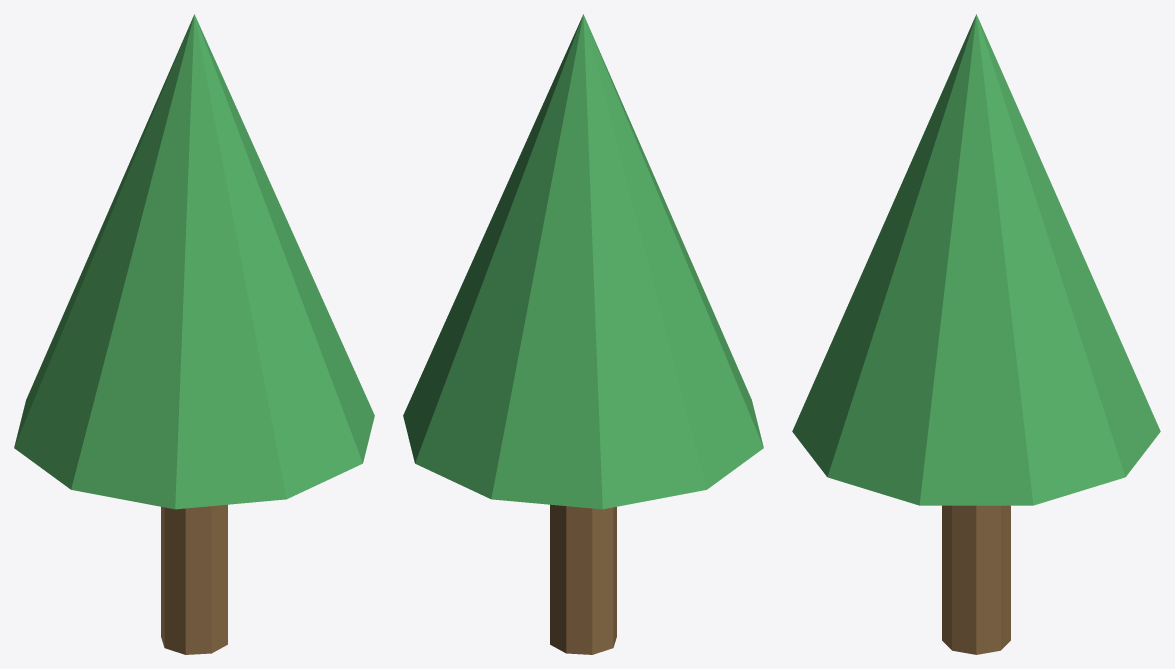
File: tree.glb
3 views of the same model, side by side, from view 1: azimuth 30°, elevation 25°; view 2: azimuth 150°, elevation 25°; view 3: azimuth 270°, elevation 25° (orthographic).
Parts seen in each view (by area): view 1: Cone, Cylinder; view 2: Cone, Cylinder; view 3: Cone, Cylinder.
Boxes of the visible parts, x1,y1,x2,y2 form: Cone: (14, 14, 374, 509); Cylinder: (161, 504, 227, 654); Cone: (403, 14, 763, 509); Cylinder: (550, 504, 616, 654); Cone: (792, 14, 1160, 505); Cylinder: (942, 505, 1010, 654).
Size of the model in its own units: 1.52 by 3 by 1.6.
